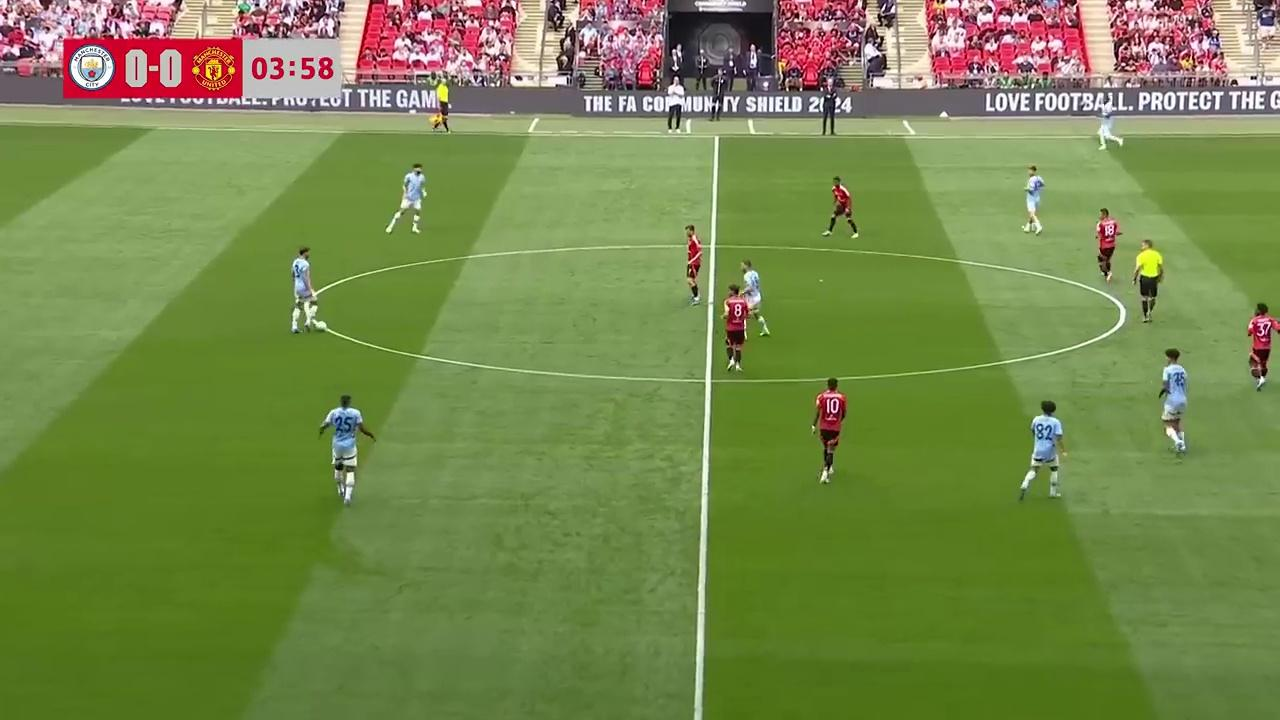ball: (315, 318, 327, 331)
player: (318, 394, 377, 503), (1017, 400, 1067, 500), (811, 377, 847, 484), (1159, 348, 1188, 455), (384, 162, 426, 235), (290, 246, 323, 334), (1247, 302, 1275, 391), (721, 285, 749, 372), (821, 176, 859, 238), (739, 259, 768, 333), (1094, 207, 1121, 282), (1022, 166, 1045, 235), (684, 224, 702, 305)
referee: (1132, 238, 1164, 323), (430, 78, 451, 132)
